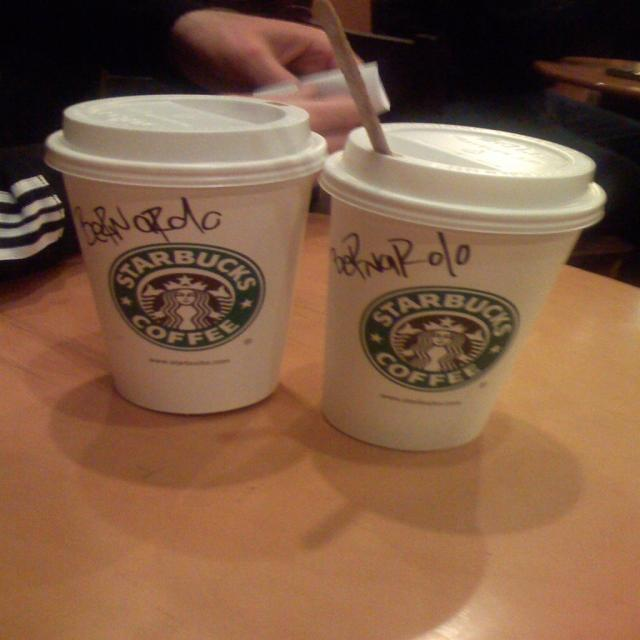starbucks: (108, 243, 268, 352), (360, 287, 520, 394)
